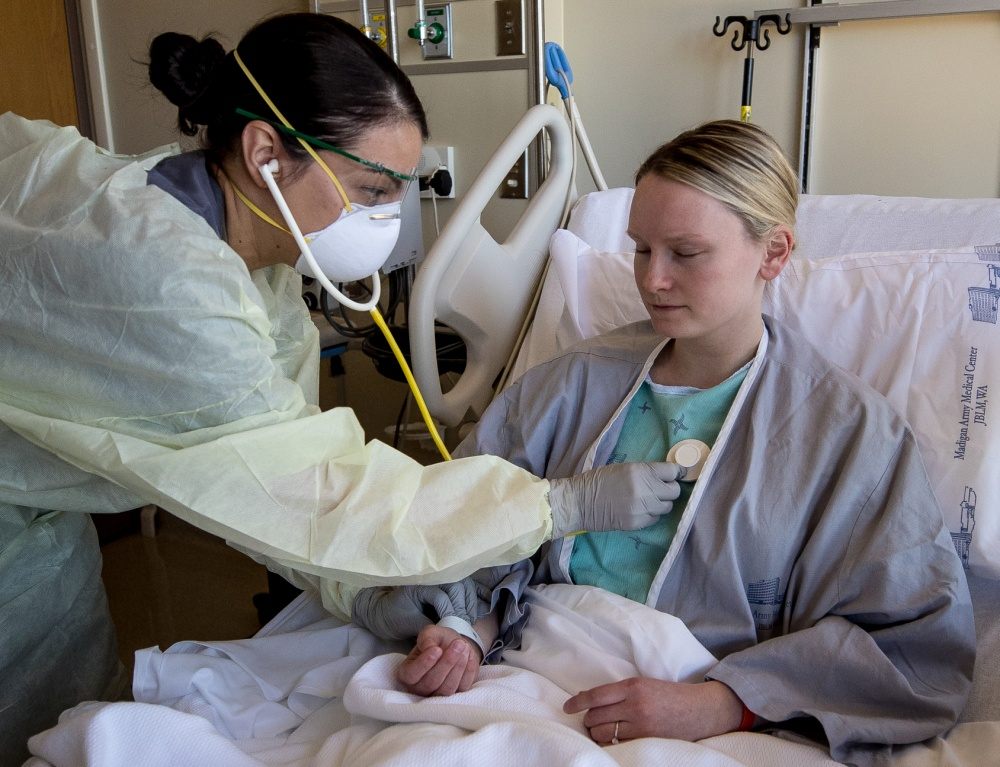bedrail: (414, 101, 580, 429)
hospital_bed: (21, 104, 990, 767)
iv_pole: (712, 12, 799, 118)
patient: (319, 117, 974, 767)
staff: (1, 4, 684, 767)
